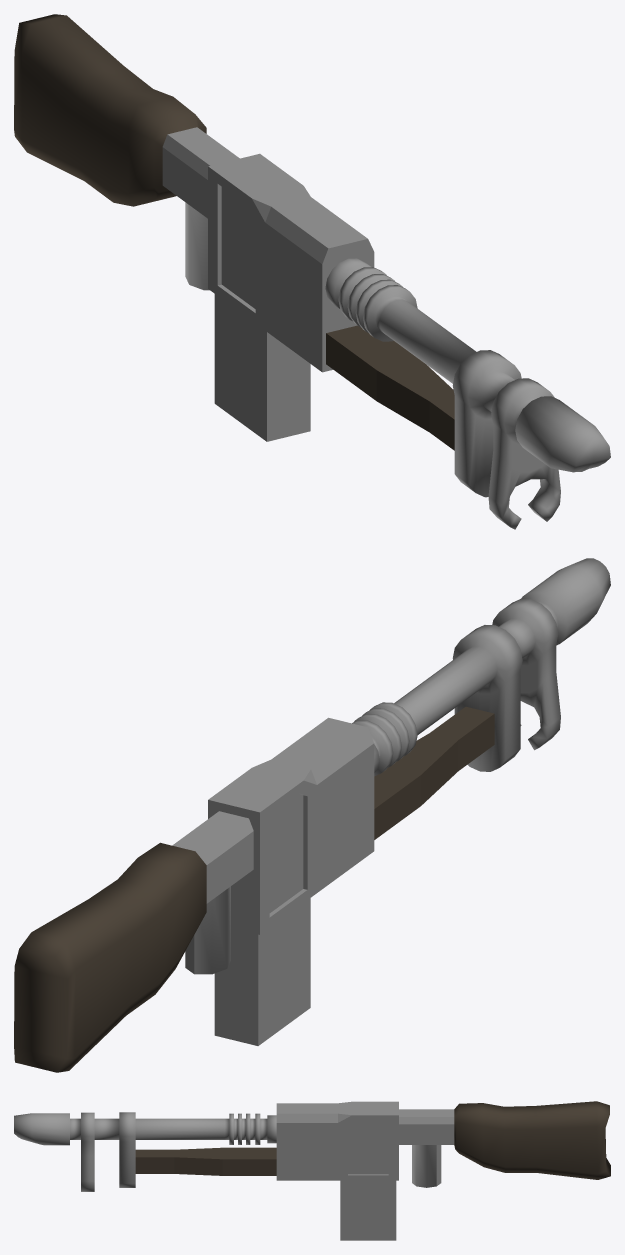
File: rifle.fbx
The picture shows the model from 3 angles, top to bottom: view 1: azimuth 30°, elevation 25°; view 2: azimuth 150°, elevation 25°; view 3: azimuth 270°, elevation 25°; orthographic projection. The views are drawn at different scales.
Visible parts, largest first — view 1: Cylinder.004; view 2: Cylinder.004; view 3: Cylinder.004.
Boxes of the visible parts, x1,y1,x2,y2 form: Cylinder.004: [14, 14, 610, 529]; Cylinder.004: [14, 558, 610, 1072]; Cylinder.004: [14, 1101, 610, 1240].
Size of the model in its own units: 0.1981 by 0.7664 by 3.21.
